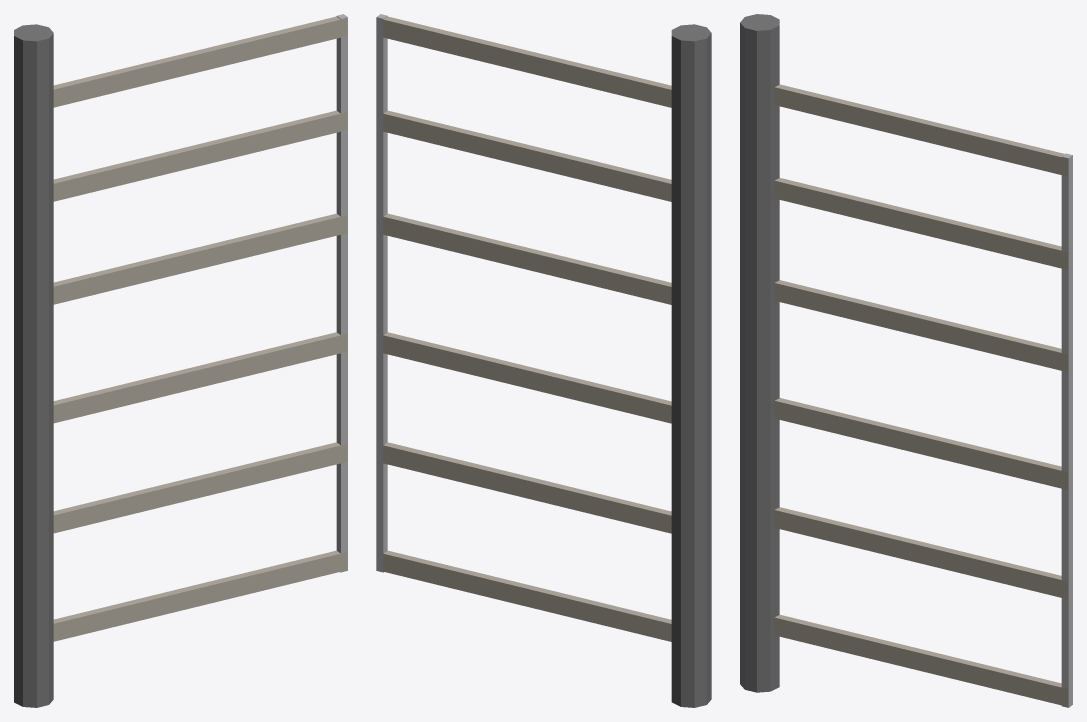
Rendered from SM_Barrier_06.fbx.
3 views of the same model, side by side, from view 1: azimuth 30°, elevation 25°; view 2: azimuth 150°, elevation 25°; view 3: azimuth 330°, elevation 25° (orthographic).
Parts seen in each view (by area): view 1: SM_Barrier_06; view 2: SM_Barrier_06; view 3: SM_Barrier_06.
Boxes of the visible parts, box(x1,y1,x2,y2) form: SM_Barrier_06: box(14, 14, 347, 707); SM_Barrier_06: box(376, 14, 711, 707); SM_Barrier_06: box(740, 14, 1072, 707).
Size of the model in its own units: 151 by 291 by 15.73.
